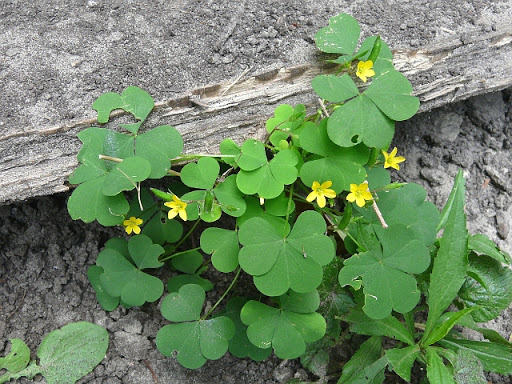clover: (338, 222, 431, 320), (309, 69, 422, 149), (237, 209, 336, 295), (155, 282, 235, 369), (239, 289, 327, 361), (96, 235, 165, 306), (176, 156, 246, 223), (234, 138, 299, 200)
yellow wood sorrel: (304, 180, 337, 209), (344, 181, 373, 208), (379, 146, 405, 172), (162, 196, 190, 220), (356, 59, 376, 83), (121, 216, 144, 234)
